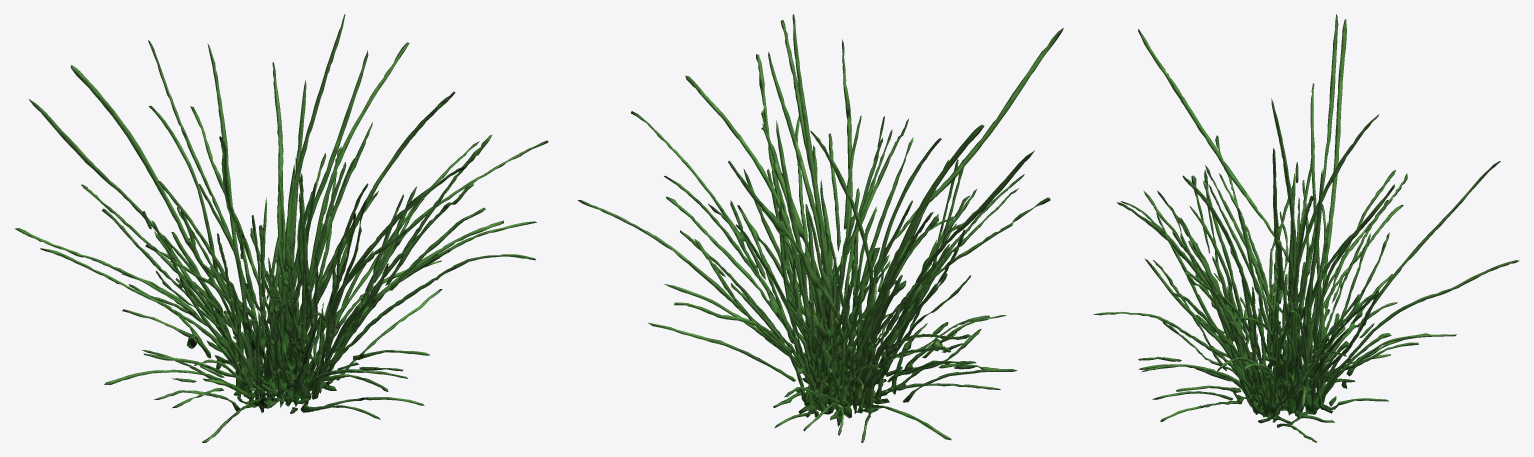
Rendered from AI_GrassTypeA.fbx.
3 views of the same model, side by side, from view 1: azimuth 30°, elevation 25°; view 2: azimuth 150°, elevation 25°; view 3: azimuth 270°, elevation 25° (orthographic). The views are drawn at different scales.
Parts seen in each view (by area): view 1: Mesh1; view 2: Mesh1; view 3: Mesh1.
Part boxes in pixels (bbox=[...]): Mesh1: bbox=[14, 14, 548, 442]; Mesh1: bbox=[578, 14, 1063, 442]; Mesh1: bbox=[1093, 14, 1519, 442].
Size of the model in its own units: 205 by 158 by 183.
Materials: 1 (1 with a texture image).
